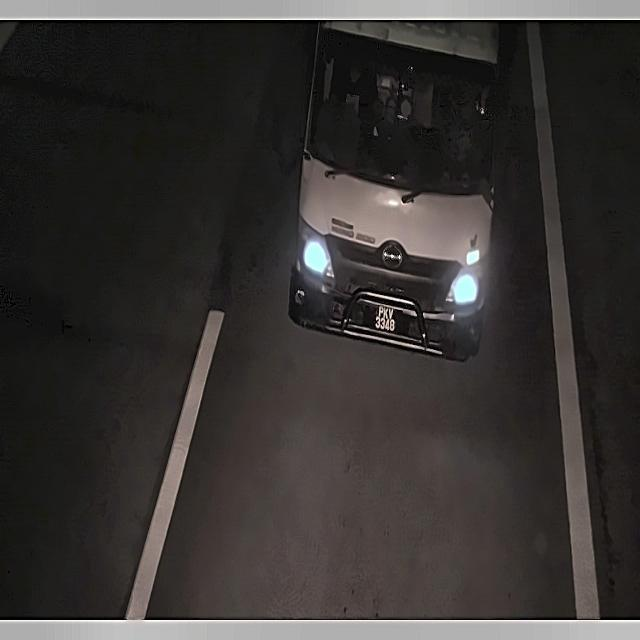car: (359, 297, 413, 343)
